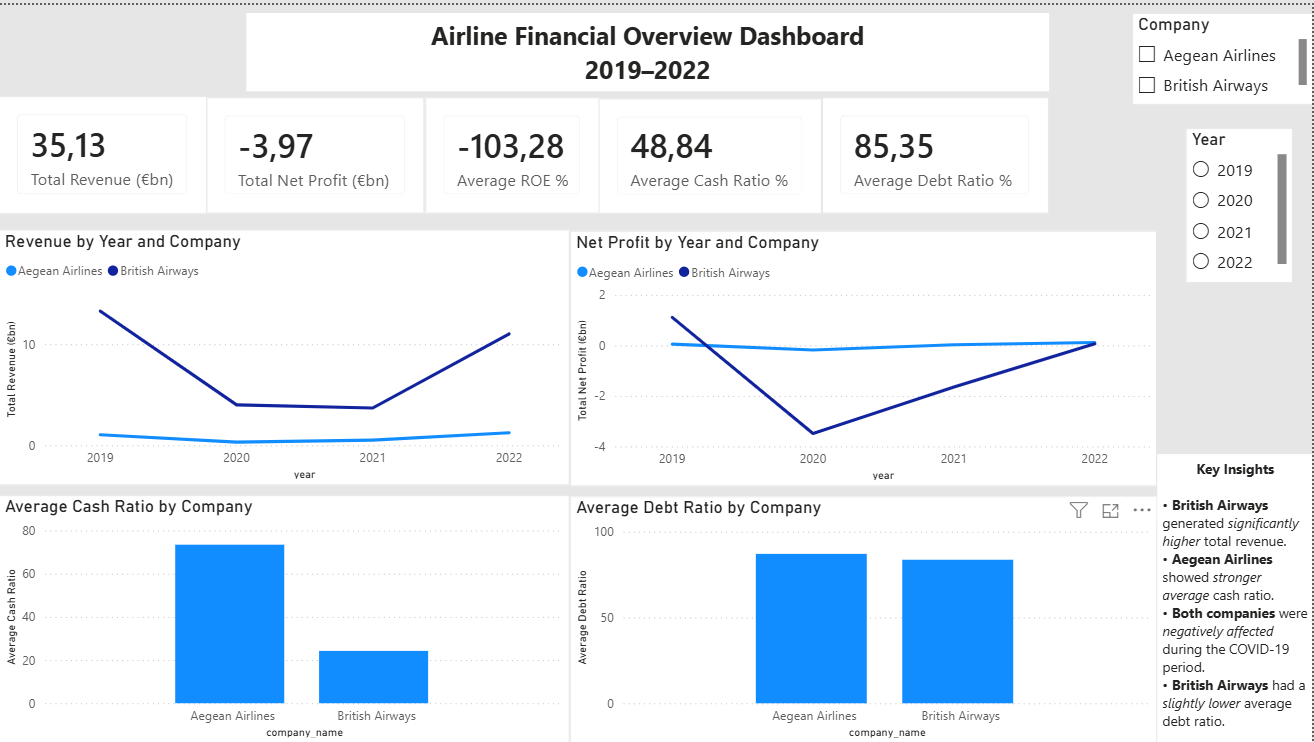

Layout of this report page (visuals, bound fields, positions):
{"tool":"powerbi","page":{"name":"Σελίδα 1","canvas":[1280,720],"ordinal":0},"visuals":[{"type":"cardVisual","fields":{"Data":["vw_financial.Average ROE"]},"box":[415,90.2,169.8,113.6],"z":0},{"type":"cardVisual","fields":{"Data":["vw_financial.Average Debt Ratio"]},"box":[802.5,90.2,220.8,113.6],"z":1000},{"type":"cardVisual","fields":{"Data":["vw_financial.Average Cash Ratio"]},"box":[584.9,91.3,217.6,112.5],"z":2000},{"type":"cardVisual","fields":{"Data":["vw_financial.Total Revenue (€bn)"]},"box":[0,89.2,202.7,114.6],"z":3000},{"type":"cardVisual","fields":{"Data":["vw_financial.Total Net Profit (€bn)"]},"box":[202.7,90.2,212.3,113.6],"z":4000},{"type":"lineChart","title":"Revenue by Year and Company","fields":{"Category":["vw_financial.year"],"Series":["vw_financial.company_name"],"Y":["vw_financial.Total Revenue (€bn)"]},"box":[0,218.7,556.2,249.4],"z":5000},{"type":"lineChart","title":"Net Profit by Year and Company","fields":{"Category":["vw_financial.year"],"Y":["vw_financial.Total Net Profit (€bn)"],"Series":["vw_financial.company_name"]},"box":[556.2,219.7,572.1,249.4],"z":6000},{"type":"columnChart","title":"Average Cash Ratio by Company","fields":{"Category":["vw_financial.company_name"],"Y":["vw_financial.Average Cash Ratio"]},"box":[0,477.7,556.2,242],"z":7000},{"type":"columnChart","title":"Average Debt Ratio by Company","fields":{"Category":["vw_financial.company_name"],"Y":["vw_financial.Average Debt Ratio"]},"box":[556.2,478.7,572.1,241],"z":8000},{"type":"textbox","box":[241,7.4,782.3,76.4],"z":9000},{"type":"listSlicer","title":"Company","fields":{"Values":["vw_financial.company_name"]},"box":[1103.9,7.4,176.2,89.2],"z":10000},{"type":"listSlicer","title":"Year","fields":{"Values":["vw_financial.year"]},"box":[1157,119.9,104,150.7],"z":11000},{"type":"textbox","box":[1128.4,437.3,151.8,282.4],"z":12000}]}

Visuals, with their boxes in screenshot pixels (x1, y1, x2, y2), scaled from the page's 1280x720 canvas onto the 1314x742 screenshot:
cardVisual - vw_financial.Average ROE: bbox(426, 93, 600, 210)
cardVisual - vw_financial.Average Debt Ratio: bbox(824, 93, 1050, 210)
cardVisual - vw_financial.Average Cash Ratio: bbox(600, 94, 824, 210)
cardVisual - vw_financial.Total Revenue (€bn): bbox(0, 92, 208, 210)
cardVisual - vw_financial.Total Net Profit (€bn): bbox(208, 93, 426, 210)
"Revenue by Year and Company" lineChart: bbox(0, 225, 571, 482)
"Net Profit by Year and Company" lineChart: bbox(571, 226, 1158, 483)
"Average Cash Ratio by Company" columnChart: bbox(0, 492, 571, 741)
"Average Debt Ratio by Company" columnChart: bbox(571, 493, 1158, 741)
textbox: bbox(247, 8, 1050, 86)
"Company" listSlicer: bbox(1133, 8, 1313, 100)
"Year" listSlicer: bbox(1188, 124, 1294, 279)
textbox: bbox(1158, 451, 1313, 741)
